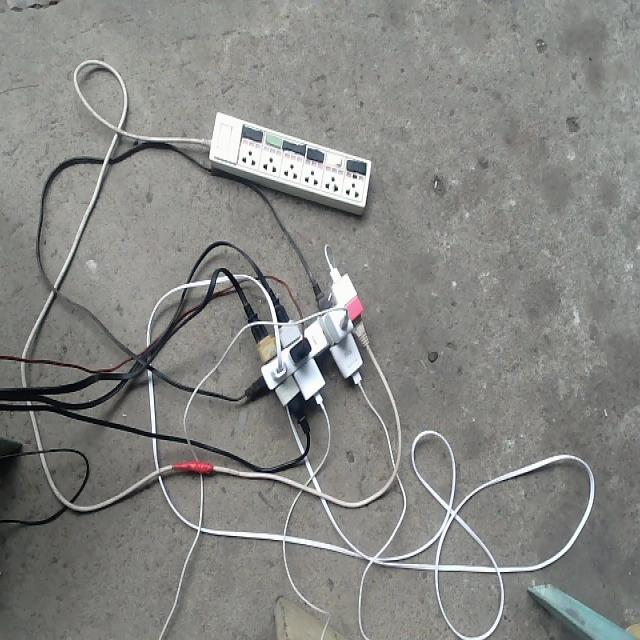-: (236, 261, 371, 432)
